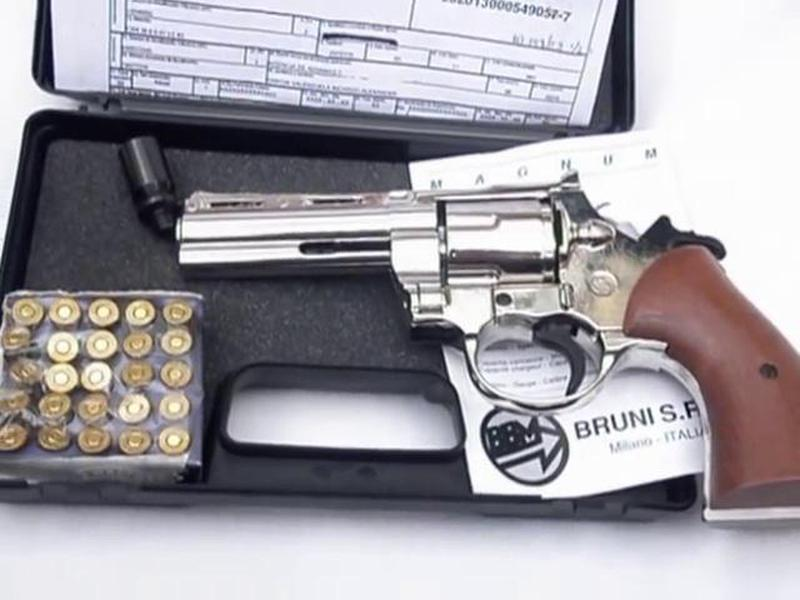Revolver: (156, 135, 800, 466)
